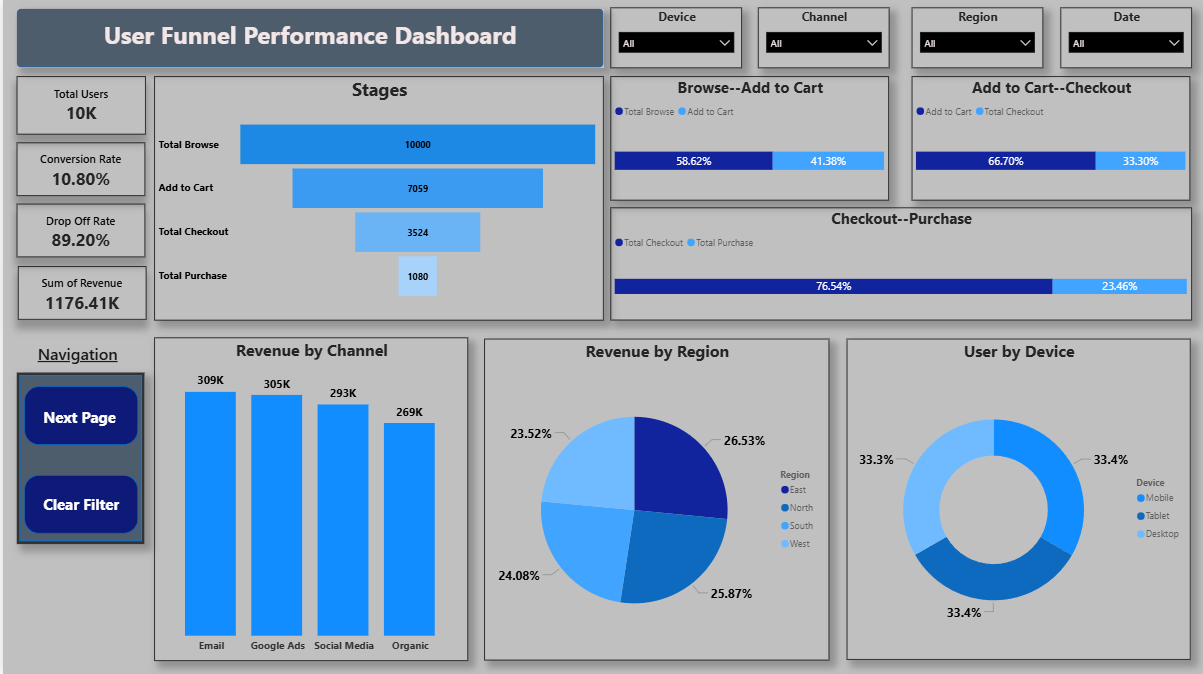

This screenshot's page, from the dashboard's own definition file:
{"tool":"powerbi","page":{"name":"Page 1","canvas":[1600,900],"ordinal":0},"visuals":[{"type":"shape","box":[18.4,496.9,170.2,228.5],"z":0},{"type":"shape","box":[28.2,515,151.8,78.2],"z":1000},{"type":"shape","box":[28.2,632.5,151.8,78.2],"z":2000},{"type":"shape","box":[18.4,12.3,782.2,78.2],"z":3000},{"type":"textbox","box":[18.4,19.9,782.2,62.9],"z":4000},{"type":"slicer","title":"Date","fields":{"Values":["funnel_analysis_data.Date.Variation.Date Hierarchy.Day"]},"box":[1409.6,10.1,175,81],"z":5000},{"type":"slicer","title":"Device","fields":{"Values":["funnel_analysis_data.Device"]},"box":[810.3,10.1,175.6,81],"z":6000},{"type":"slicer","title":"Channel","fields":{"Values":["funnel_analysis_data.Channel"]},"box":[1006.1,10.1,175.6,81],"z":7000},{"type":"slicer","title":"Region","fields":{"Values":["funnel_analysis_data.Region"]},"box":[1212.1,10.1,175,81],"z":8000},{"type":"cardVisual","title":"Total Users","fields":{"Data":["funnel_analysis_data.Total_count"]},"box":[18.6,101.3,172.2,77.7],"z":9000},{"type":"cardVisual","title":"Total Users","fields":{"Data":["funnel_analysis_data.Conversion Rate"]},"box":[18.6,190,171,71],"z":10000},{"type":"cardVisual","title":"Total Users","fields":{"Data":["funnel_analysis_data.Drop-off Rate"]},"box":[18.6,271.4,171,71],"z":11000},{"type":"cardVisual","title":"Total Users","fields":{"Data":["Sum(funnel_analysis_data.Revenue)"]},"box":[20,355.7,171,71],"z":12000},{"type":"funnel","title":"Stages","fields":{"Y":["funnel_analysis_data.Total Browse","funnel_analysis_data.Add to Cart","funnel_analysis_data.Total Checkout","funnel_analysis_data.Total Purchase"]},"box":[200.9,101.3,599.3,325.8],"z":13000},{"type":"hundredPercentStackedBarChart","title":"Browse--Add to Cart","fields":{"Y":["funnel_analysis_data.Total Browse","funnel_analysis_data.Add to Cart"]},"box":[810.3,101.3,371.4,165.4],"z":14000},{"type":"hundredPercentStackedBarChart","title":"Checkout--Purchase","fields":{"Y":["funnel_analysis_data.Total Checkout","funnel_analysis_data.Total Purchase"]},"box":[810.3,276.9,774.8,150.2],"z":15000},{"type":"hundredPercentStackedBarChart","title":"Add to Cart--Checkout","fields":{"Y":["funnel_analysis_data.Add to Cart","funnel_analysis_data.Total Checkout"]},"box":[1212.1,101.3,371.4,165.4],"z":16000},{"type":"columnChart","title":"Revenue by Channel","fields":{"Y":["Sum(funnel_analysis_data.Revenue)"],"Category":["funnel_analysis_data.Channel"]},"box":[200.9,449.4,418.7,431],"z":17000},{"type":"pieChart","title":"Revenue by Region","fields":{"Y":["Sum(funnel_analysis_data.Revenue)"],"Category":["funnel_analysis_data.Region"]},"box":[642.2,452.2,460,428.9],"z":18000},{"type":"donutChart","title":"User by Device","fields":{"Category":["funnel_analysis_data.Device"],"Y":["funnel_analysis_data.Total_count"]},"box":[1125,451.7,458.3,428.3],"z":19000},{"type":"actionButton","box":[42,644.8,125.8,53.7],"z":20000},{"type":"actionButton","box":[40.5,528.8,124.2,53.7],"z":21000},{"type":"textbox","box":[18.4,452.5,162.6,44.5],"z":22000}]}

Visuals, with their boxes in screenshot pixels (x1, y1, x2, y2), scaled from the page's 1600x900 canvas onto the 1203x674 screenshot:
shape: [14,372,142,543]
shape: [21,386,135,444]
shape: [21,474,135,532]
shape: [14,9,602,68]
textbox: [14,15,602,62]
"Date" slicer: [1060,8,1191,68]
"Device" slicer: [609,8,741,68]
"Channel" slicer: [756,8,888,68]
"Region" slicer: [911,8,1043,68]
"Total Users" cardVisual: [14,76,143,134]
"Total Users" cardVisual: [14,142,143,195]
"Total Users" cardVisual: [14,203,143,256]
"Total Users" cardVisual: [15,266,144,320]
"Stages" funnel: [151,76,602,320]
"Browse--Add to Cart" hundredPercentStackedBarChart: [609,76,888,200]
"Checkout--Purchase" hundredPercentStackedBarChart: [609,207,1192,320]
"Add to Cart--Checkout" hundredPercentStackedBarChart: [911,76,1191,200]
"Revenue by Channel" columnChart: [151,337,466,659]
"Revenue by Region" pieChart: [483,339,829,660]
"User by Device" donutChart: [846,338,1190,659]
actionButton: [32,483,126,523]
actionButton: [30,396,124,436]
textbox: [14,339,136,372]
